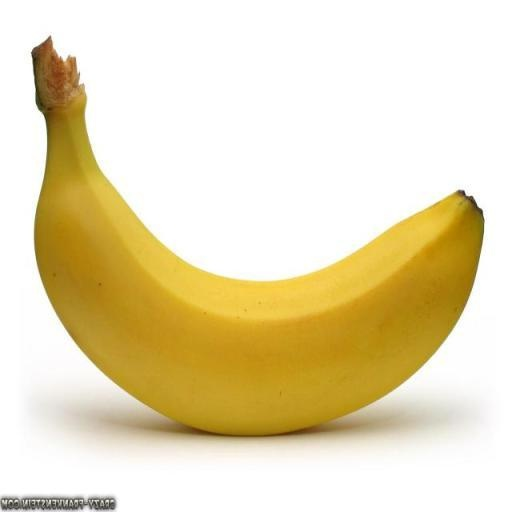fruit: (456, 104, 504, 413)
